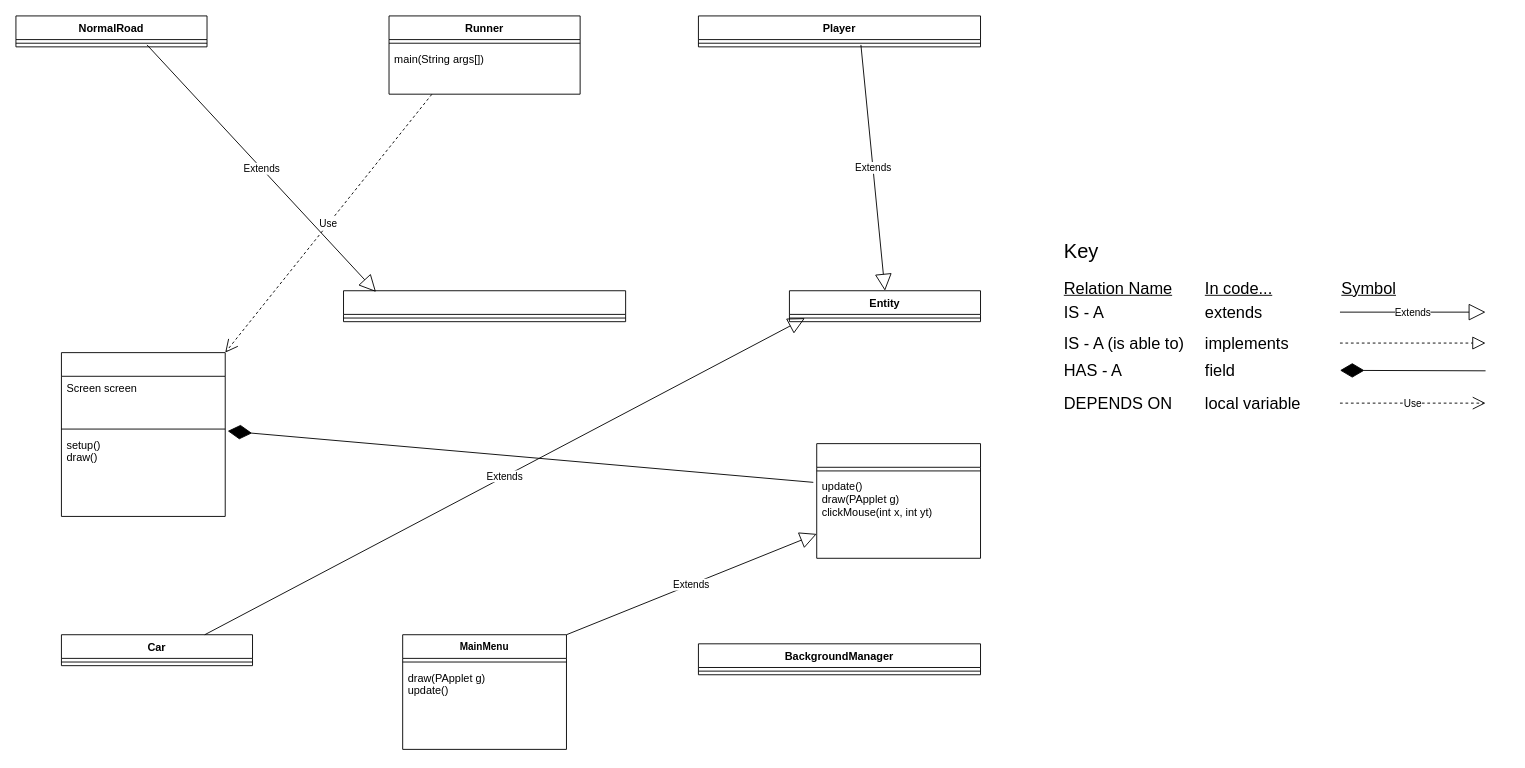
The diagram is 1525 pixels wide and 768 high, and some of its shapes have lost their labels. Each missing label, with the box of its shape:
Background: (343, 290, 626, 322)
Game extends PApplet: (61, 352, 225, 516)
Screen: (816, 443, 981, 558)
